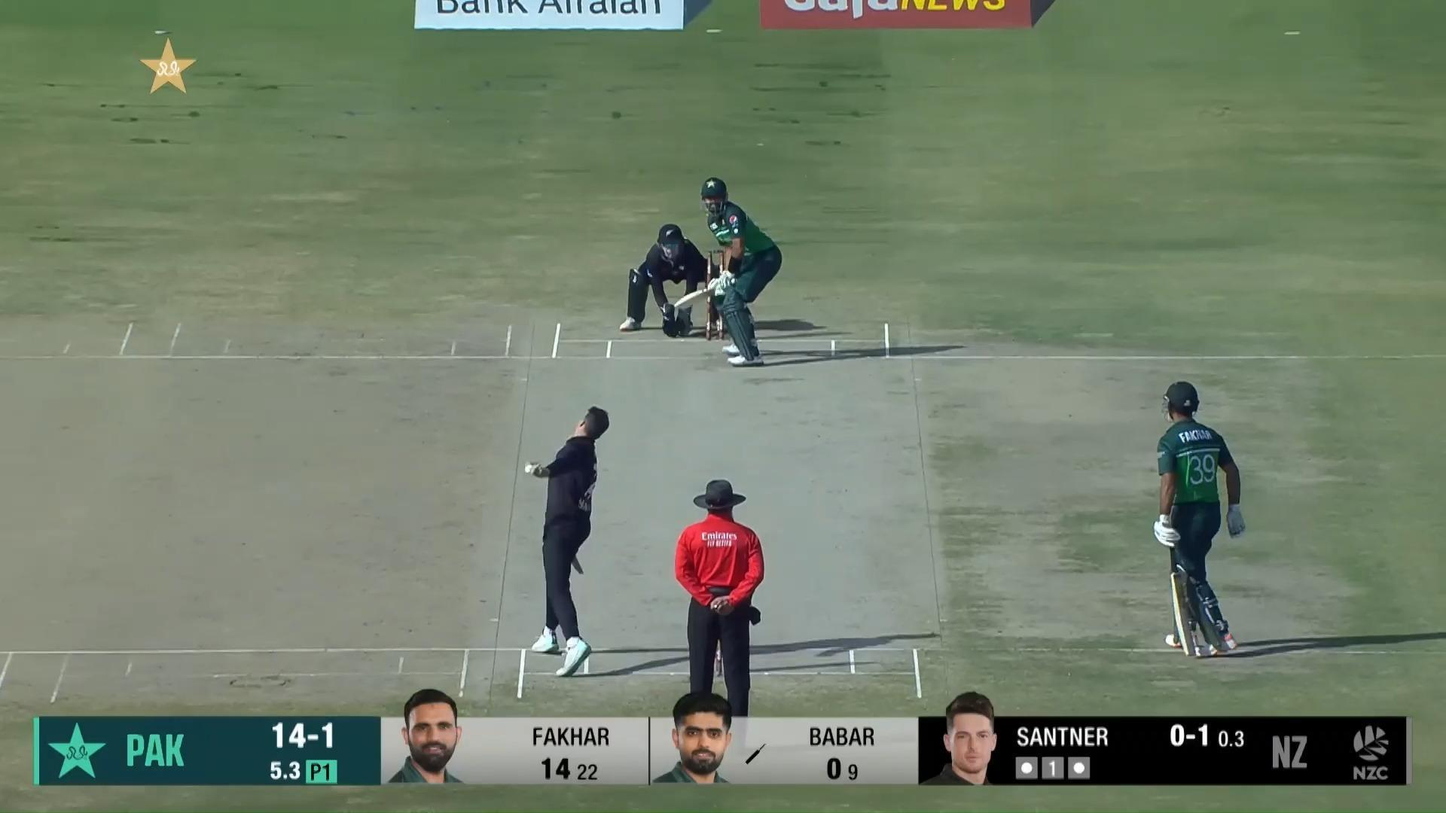BM 1: (674, 177, 782, 367)
BO: (526, 404, 611, 679)
